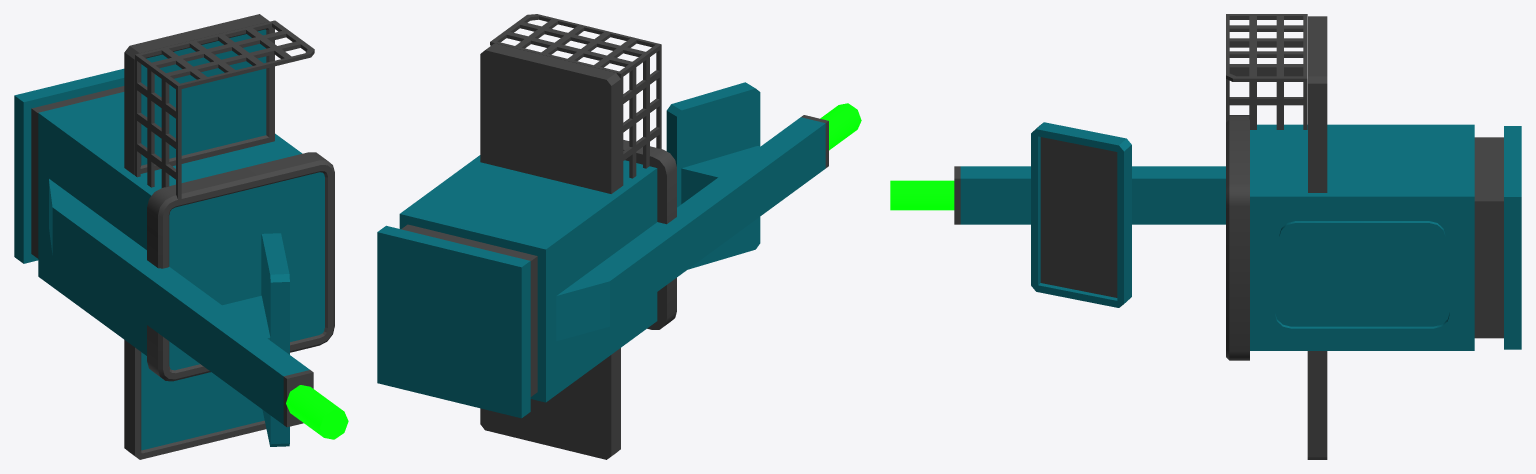
The model's file is self_checkout.glb.
The picture shows the model from 3 angles, left to right: view 1: azimuth 30°, elevation 25°; view 2: azimuth 150°, elevation 25°; view 3: azimuth 270°, elevation 25°; orthographic projection. The views are drawn at different scales.
Parts seen in each view (by area): view 1: Self_Checkout; view 2: Self_Checkout; view 3: Self_Checkout.
Part boxes in pixels (left/top/right/bottom): Self_Checkout: left=14, top=14, right=348, bottom=459; Self_Checkout: left=377, top=14, right=861, bottom=459; Self_Checkout: left=890, top=14, right=1521, bottom=459.
Size of the model in its own units: 0.5484 by 1.09 by 1.63.
